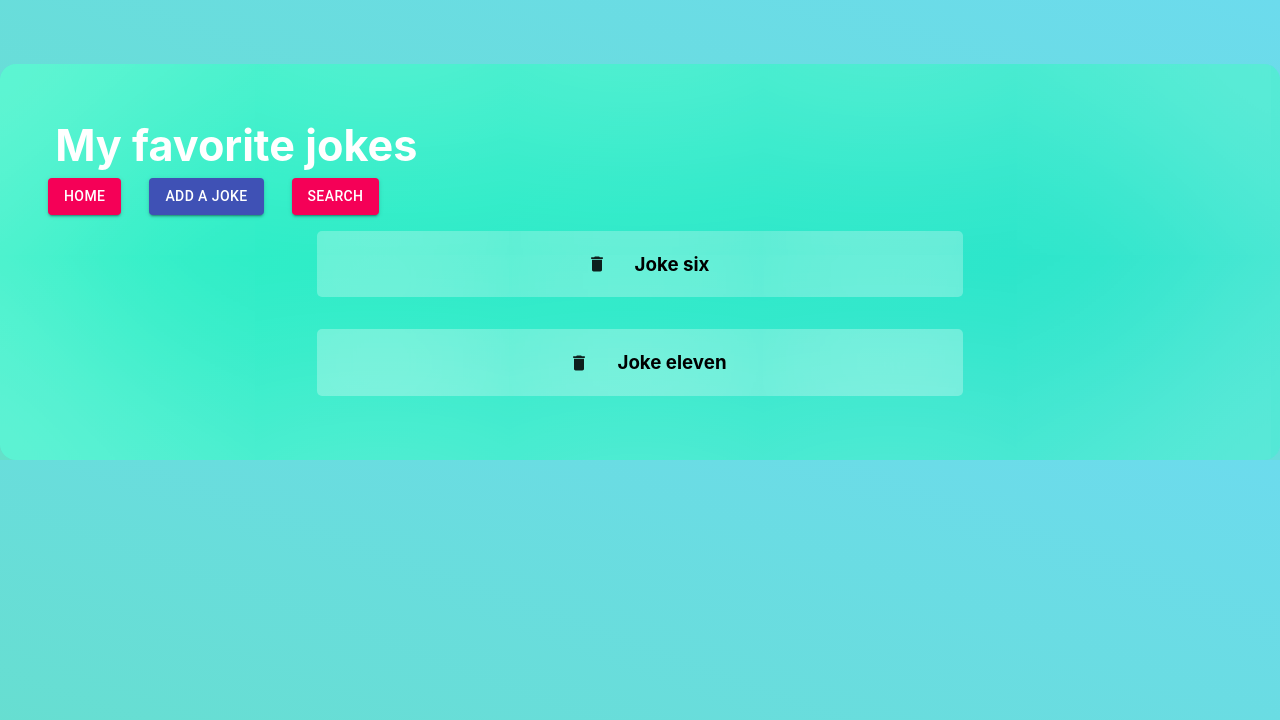
Test: Saved › should show a message when no jokes include the search word
Click the button "Search": (335, 197) x1=292 y1=178 x2=379 y2=215
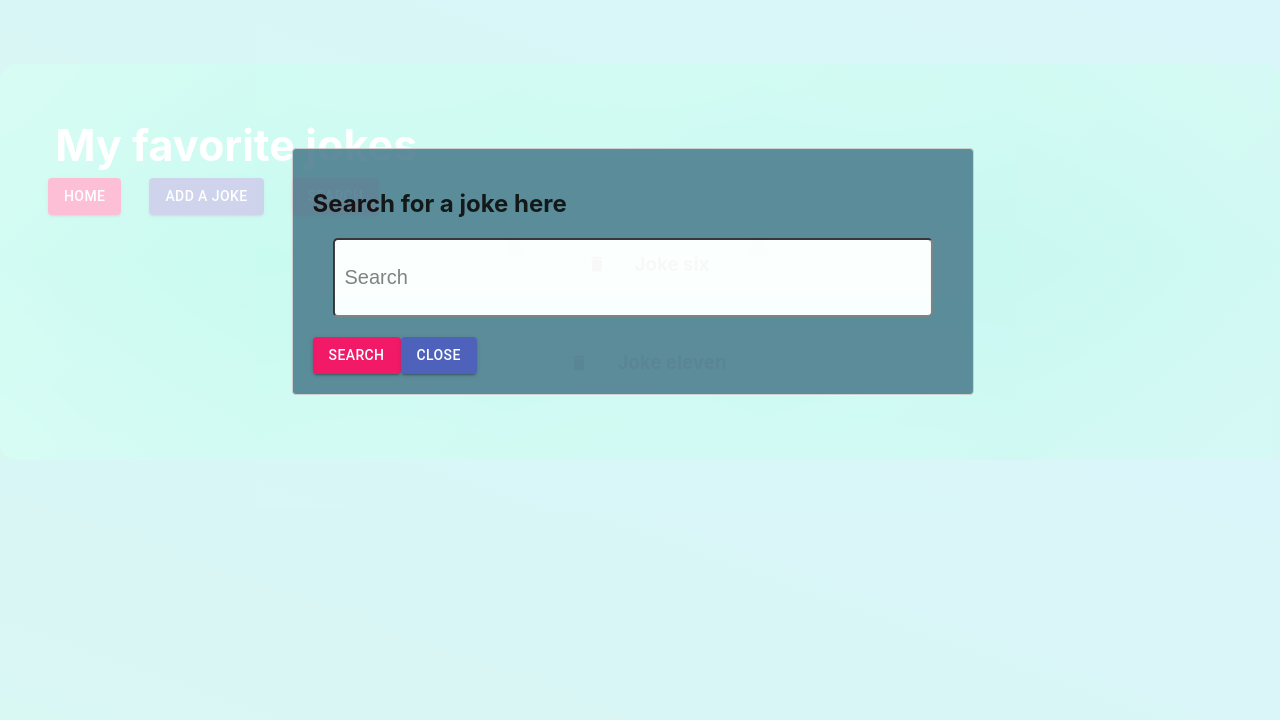
Expected: the heading "Search for a joke here" is shown, x1=312 y1=189 x2=567 y2=218
In the search field with placeholder "Search": (632, 278) x1=332 y1=238 x2=932 y2=317, type "two"
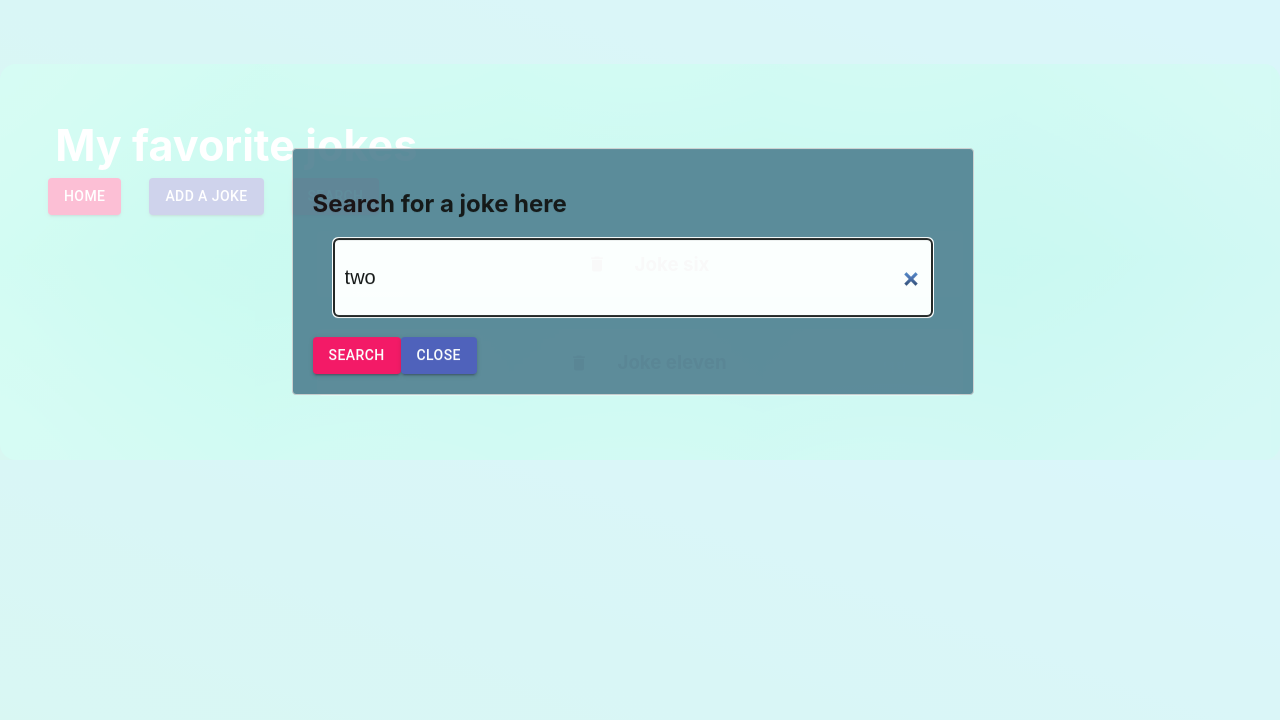
Click the button with test id "search-button": (356, 356) x1=312 y1=337 x2=400 y2=374
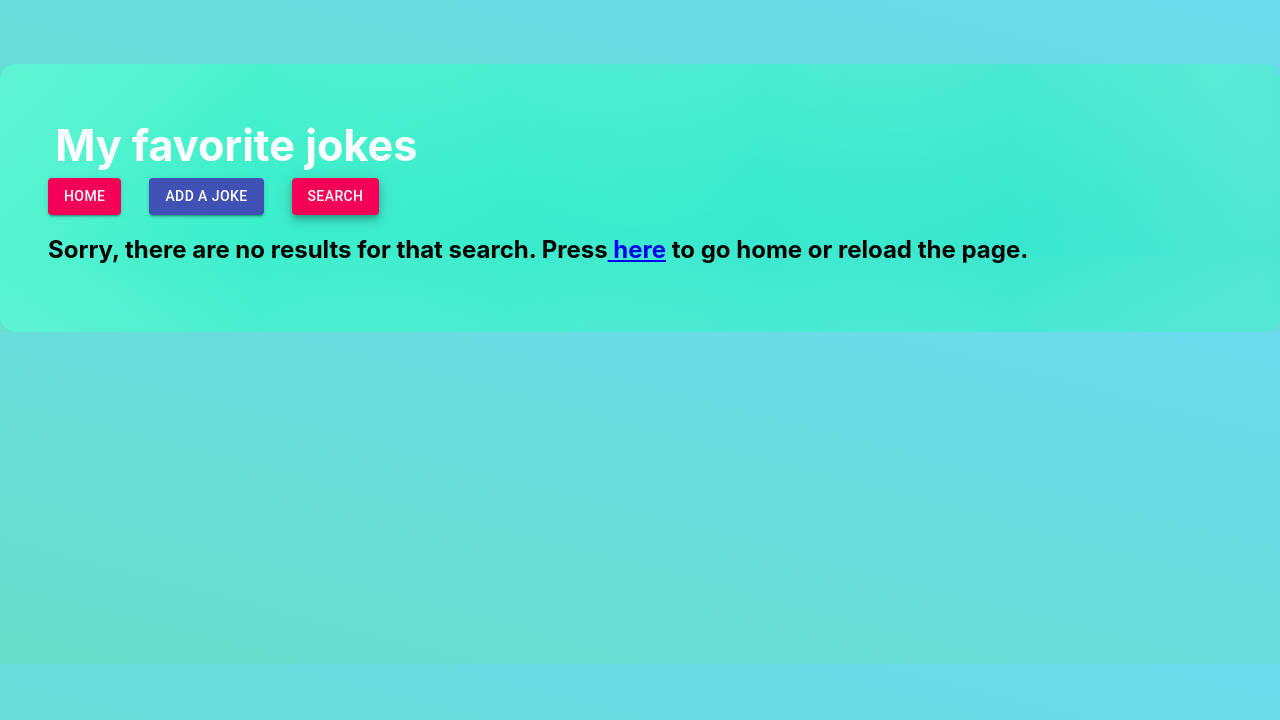
Expected: the heading with test id "search-error" is shown, x1=48 y1=235 x2=1028 y2=264
